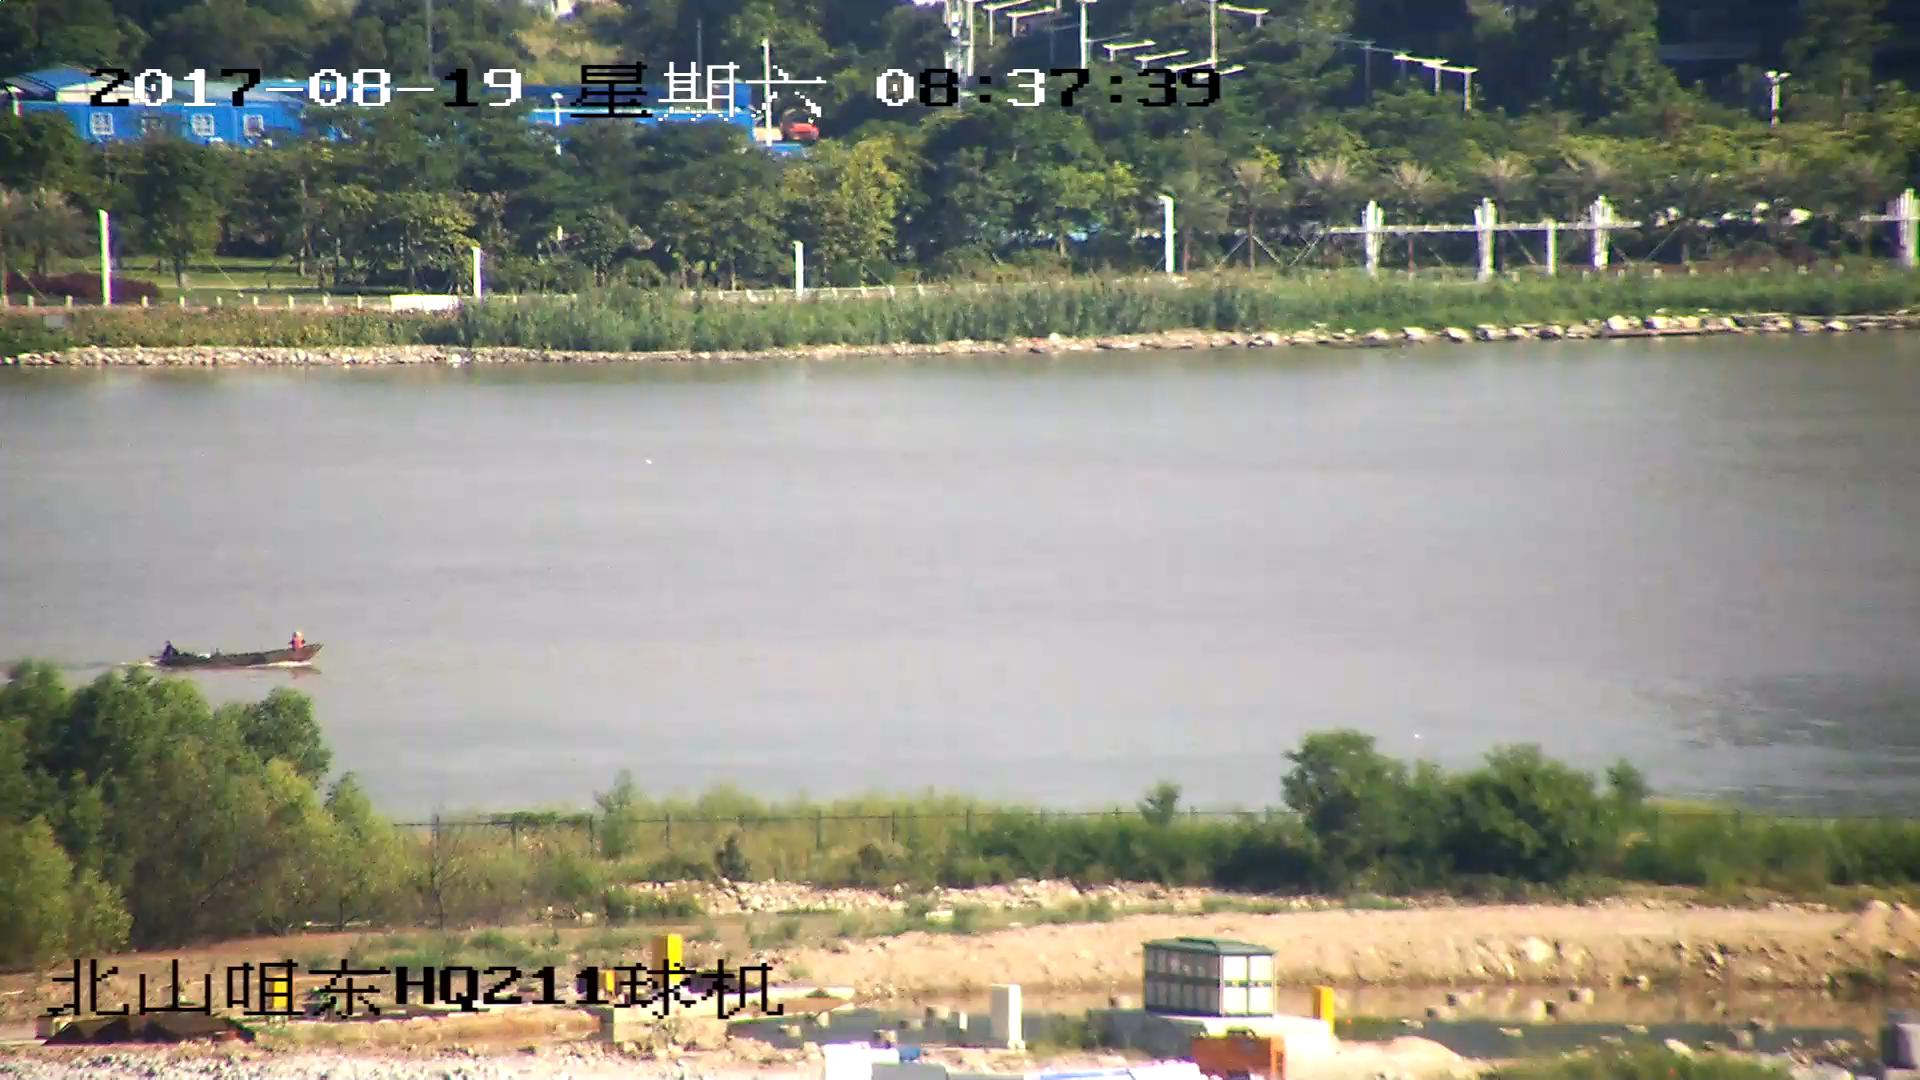fishing boat: (147, 628, 321, 671)
